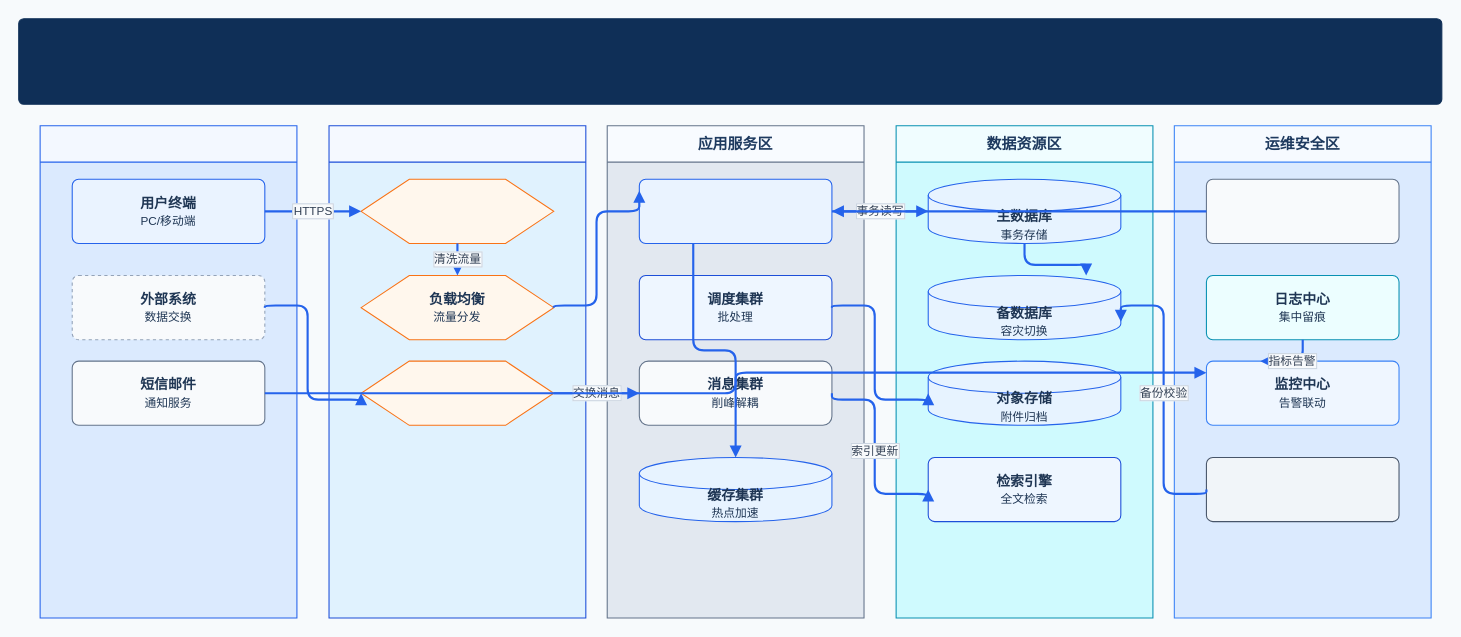
Image size: 1461x637. Some labels were removed from this diagram. Here are the shapes that lost their labels. From the top down, the box of each, then its label:
(18, 18, 1442, 104): 复杂部署拓扑图 Draw.io 高复杂度典型图测试
(360, 178, 554, 243): WAF 攻击防护
(638, 178, 832, 243): 应用集群 横向扩展
(1205, 178, 1399, 243): 堡垒机 运维审计
(39, 125, 297, 618): 互联网与外部单位区
(328, 125, 586, 618): 边界接入区
(360, 360, 554, 425): 边界网关 接入鉴权
(1205, 456, 1399, 522): 备份中心 定时备份
